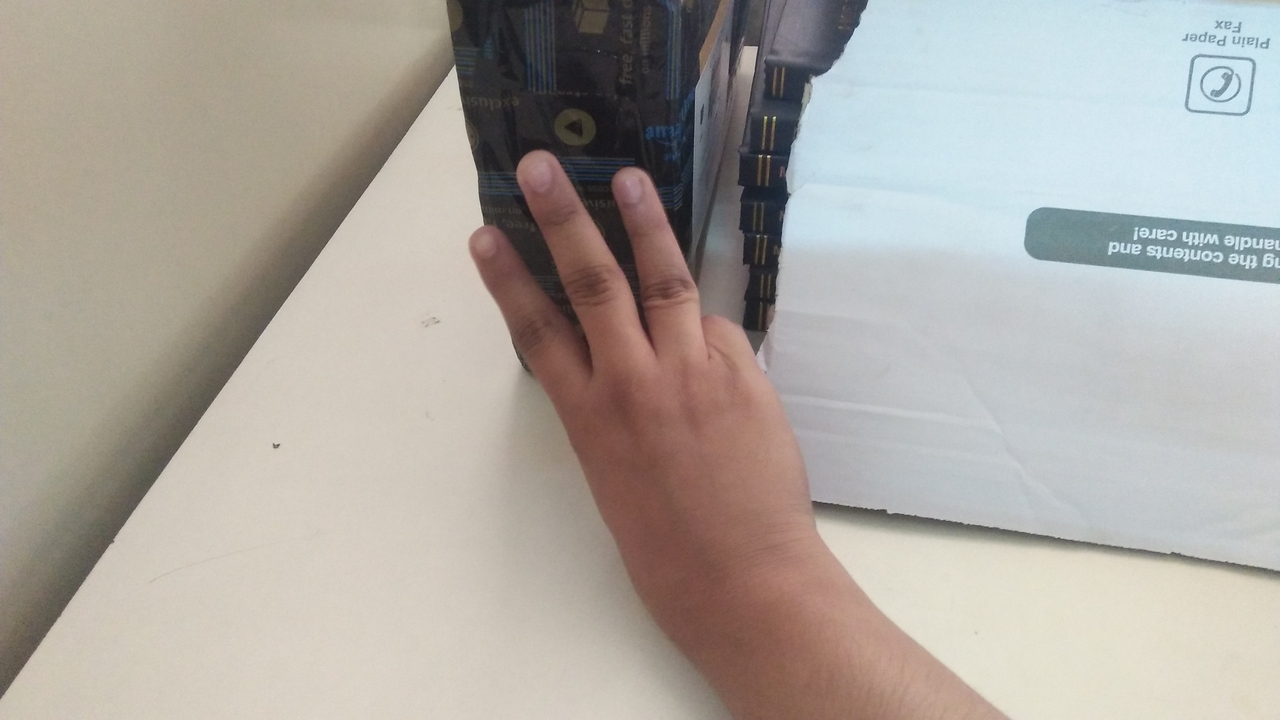fingertip: (504, 138, 574, 202), (602, 158, 664, 210), (456, 216, 514, 268)
